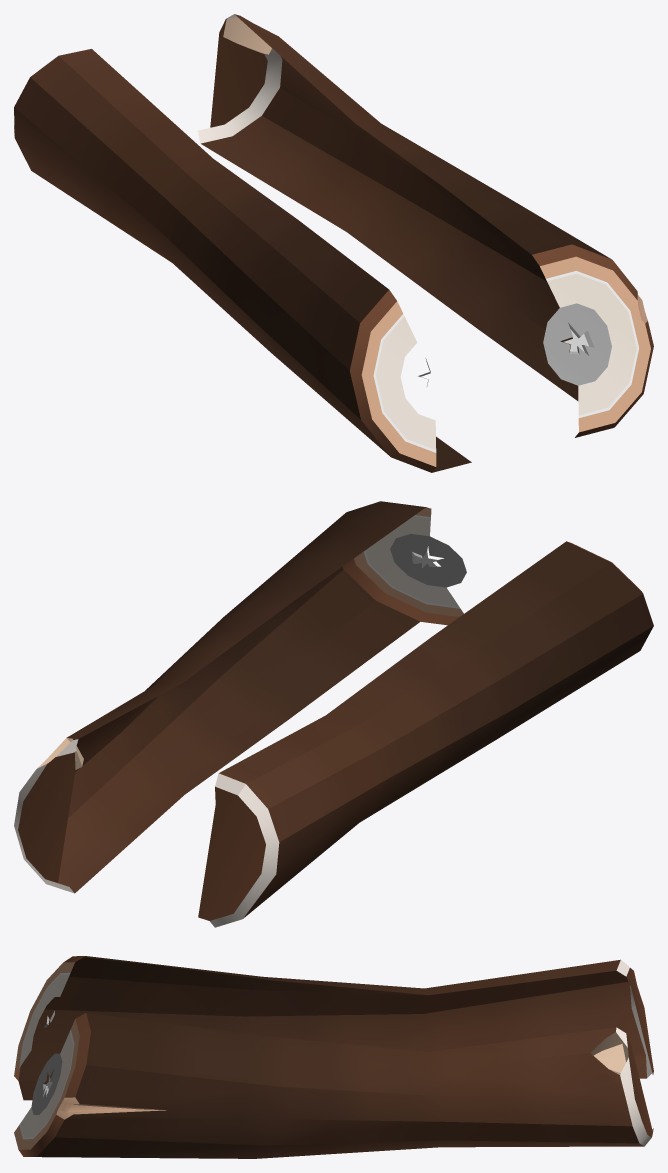
File: 2_AYRI_odun.fbx
3 renders of one model, top to bottom at view 1: azimuth 30°, elevation 25°; view 2: azimuth 150°, elevation 25°; view 3: azimuth 270°, elevation 25°, orthographic. The views are drawn at different scales.
Parts seen in each view (by area): view 1: odun, odun.003, odun.002; view 2: odun, odun.003, odun.002; view 3: odun, odun.003, odun.002.
Boxes of the visible parts, left/top/right/bottom form: odun: left=197, top=14, right=653, bottom=437; odun.003: left=14, top=56, right=436, bottom=472; odun.002: left=59, top=49, right=471, bottom=472; odun: left=14, top=501, right=466, bottom=893; odun.003: left=210, top=541, right=653, bottom=927; odun.002: left=198, top=541, right=610, bottom=920; odun: left=14, top=1012, right=653, bottom=1158; odun.003: left=14, top=956, right=652, bottom=1081; odun.002: left=18, top=956, right=653, bottom=1100.
Bounding box in the file's own units: 175 × 85.51 × 391.
